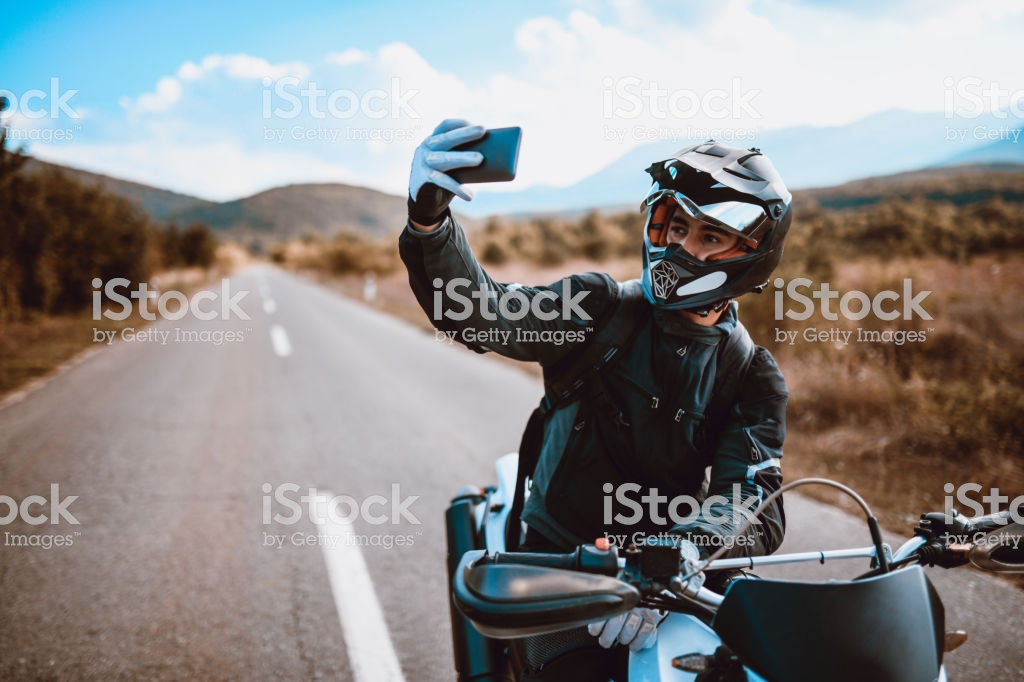helmet: (632, 139, 802, 301)
